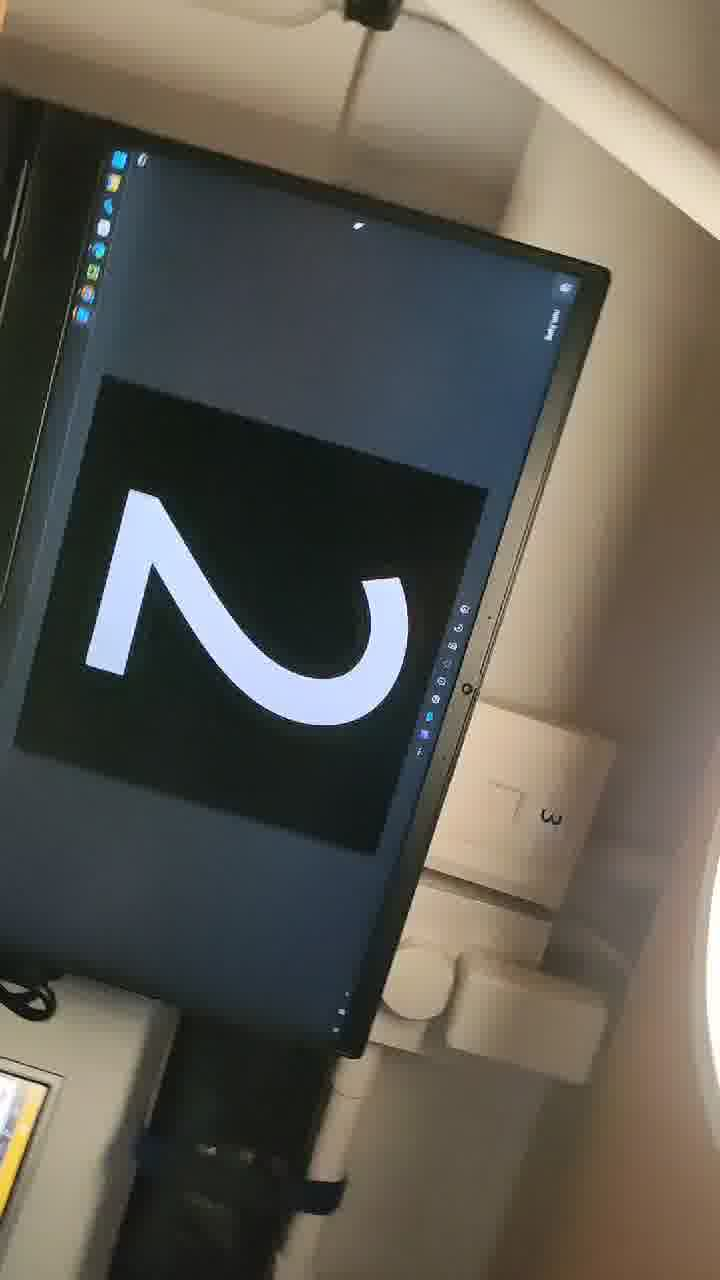two: (100, 394, 500, 841)
